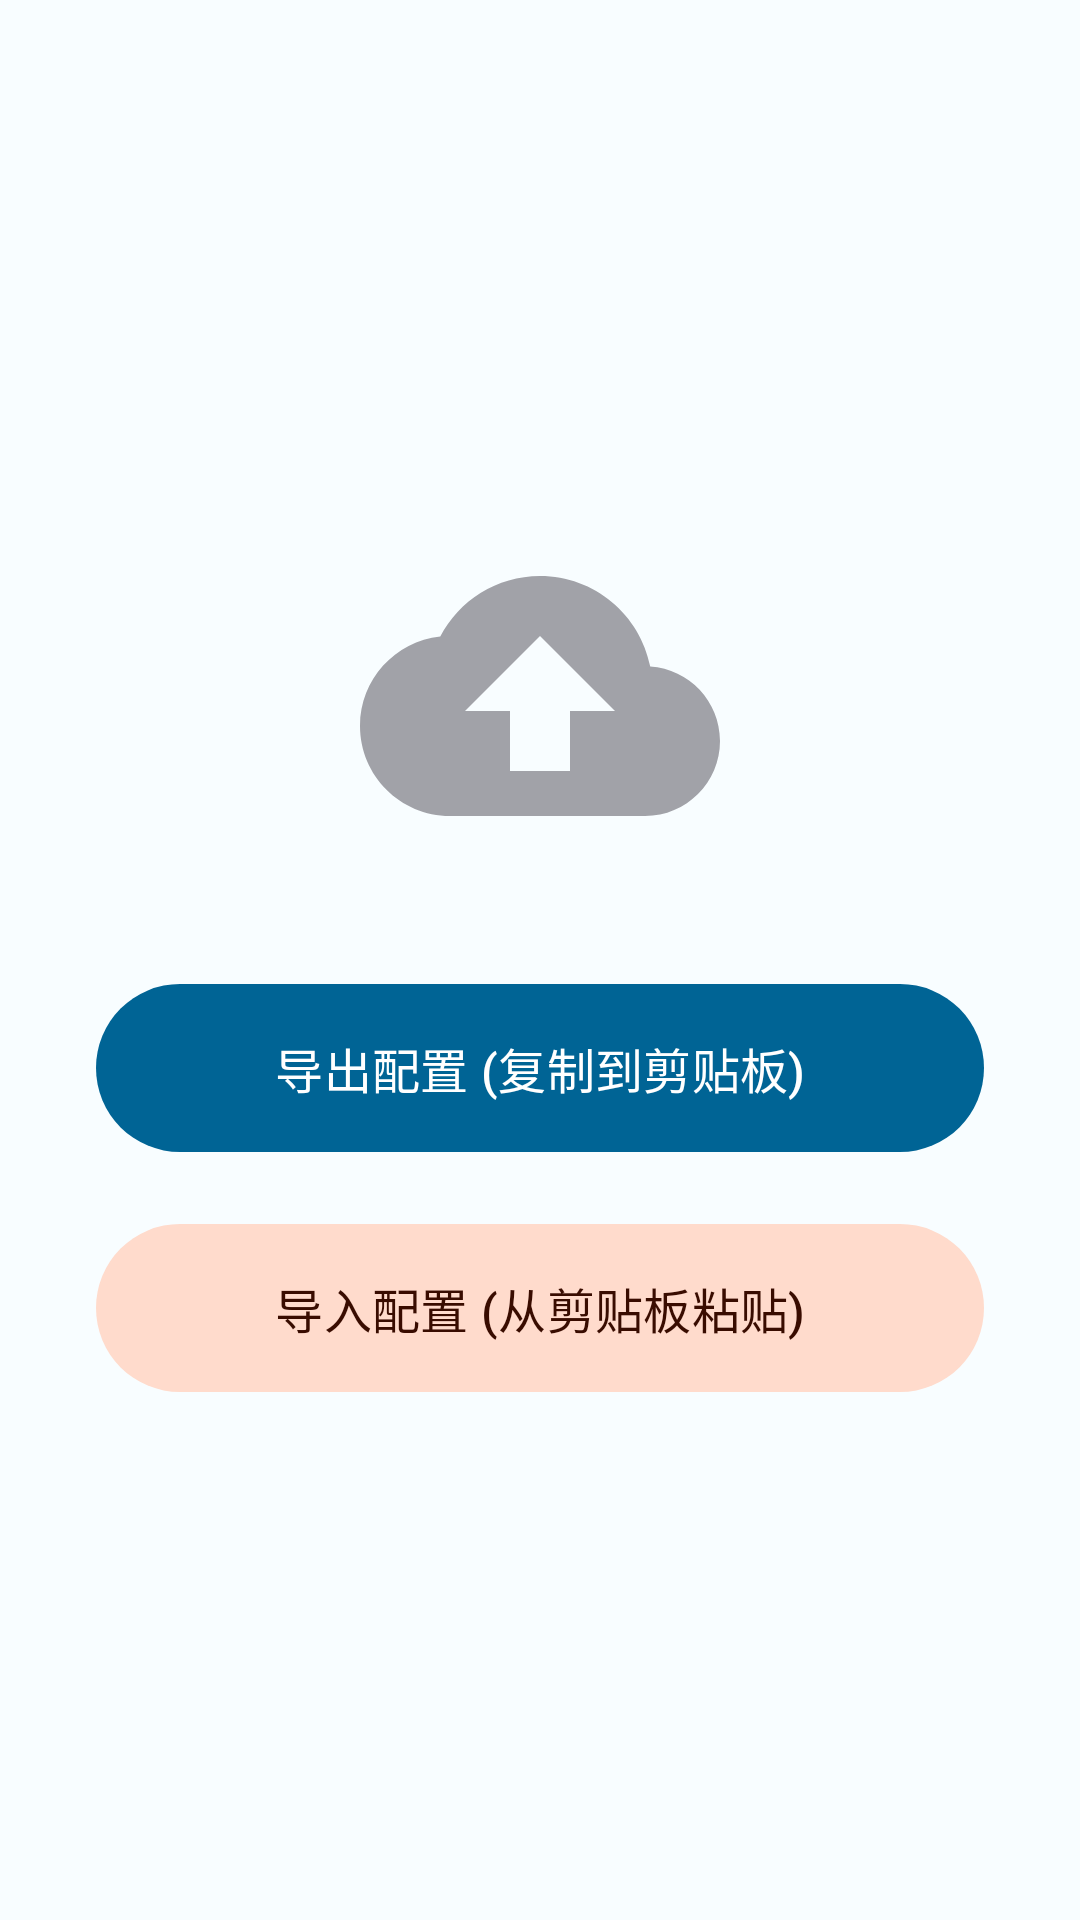

Icon click points for this 1080*1920 phone screenshot, format point (x, y):
backup: point (540, 696)
